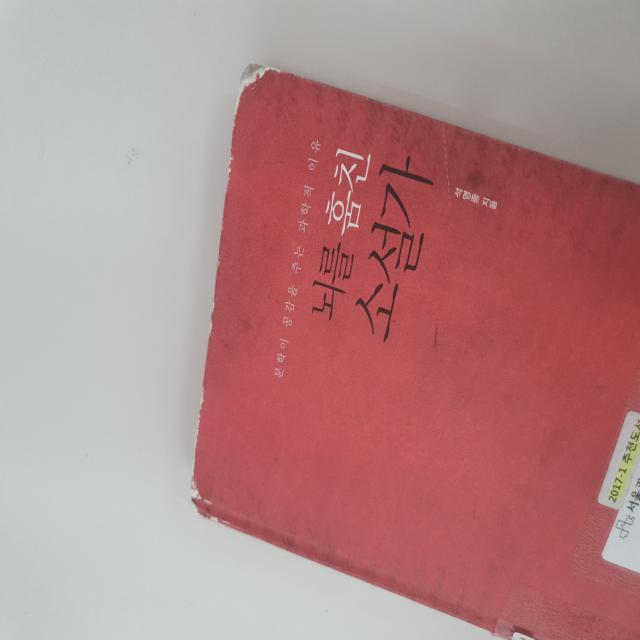Ripped: (230, 60, 286, 133), (186, 455, 234, 532)
Wornout: (205, 250, 232, 344), (193, 370, 220, 454), (219, 144, 246, 203)
